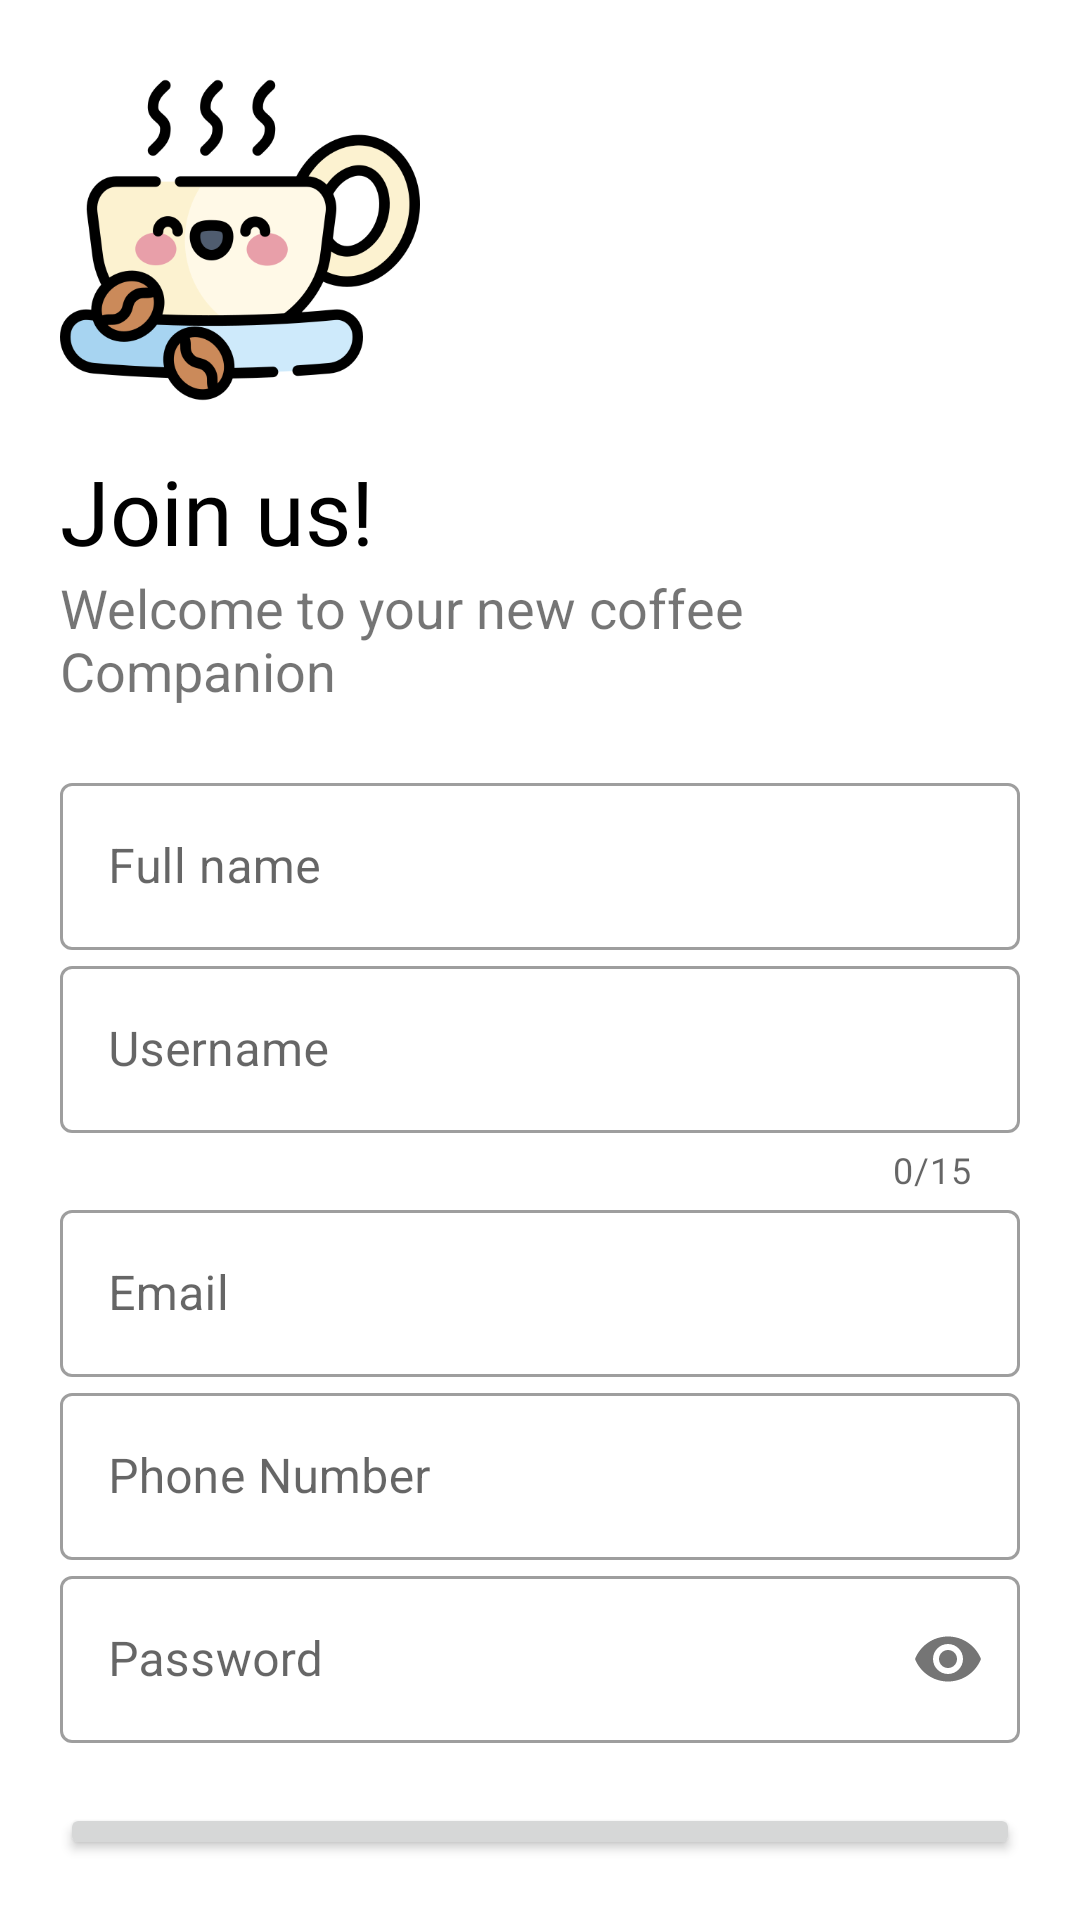

Screen size 1080w x 1920h. Icon name, then its box in pixels as (x1, y1, x2, y2):
coffee: (60, 80, 420, 400)
